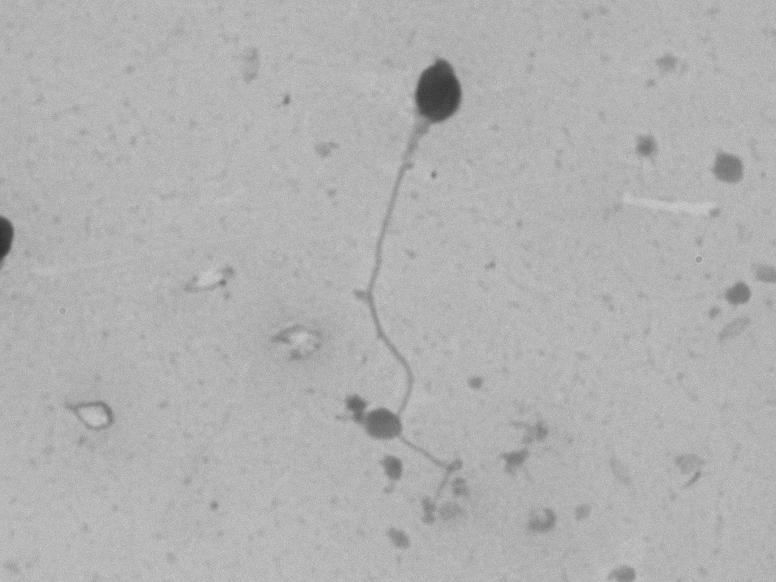Abnormal: (355, 47, 479, 509)
